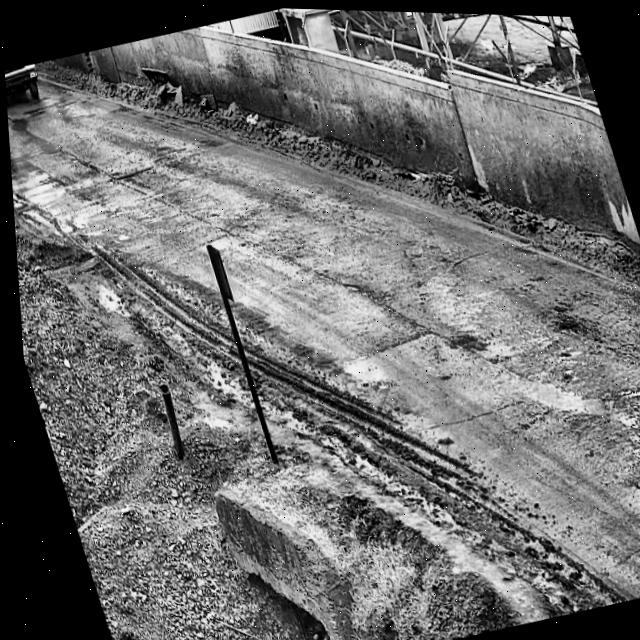dump_truck: (3, 62, 46, 112)
